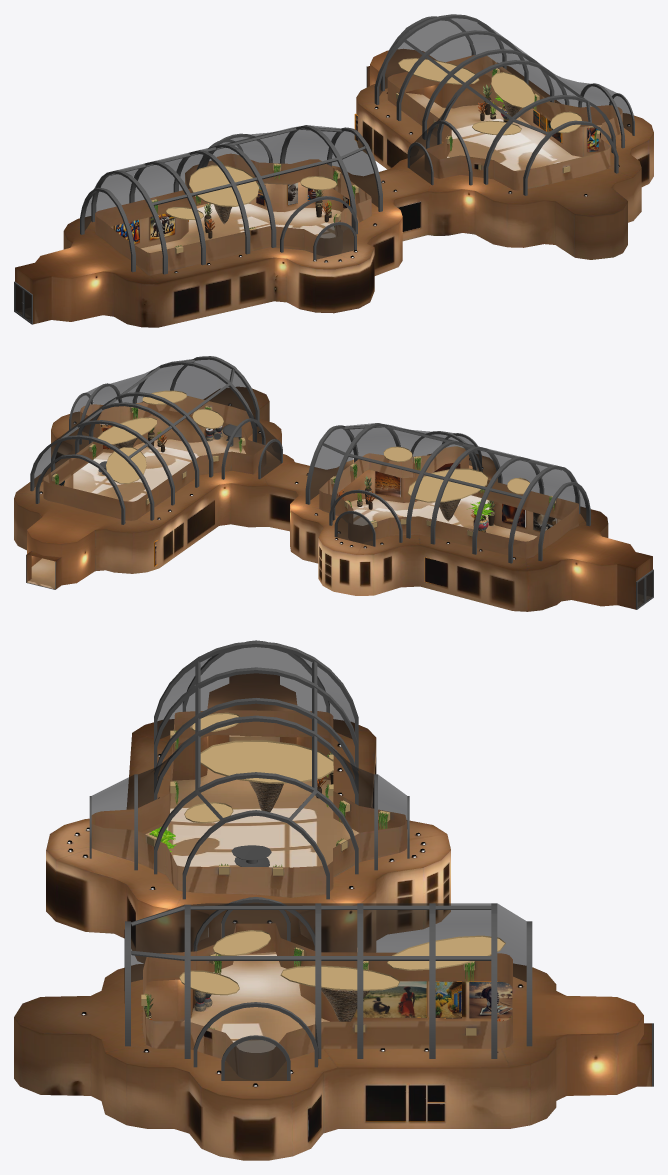
Rendered from nuevagalery.glb.
3 views of the same model, one above another, from view 1: azimuth 30°, elevation 25°; view 2: azimuth 150°, elevation 25°; view 3: azimuth 270°, elevation 25° (orthographic). The views are drawn at different scales.
Parts seen in each view (by area): view 1: Object_574, Object_574.010; view 2: Object_574, Object_574.030; view 3: Object_574, Object_574.001, Object_574.035, Object_574.036.
Boxes of the visible parts, x1,y1,x2,y2 form: Object_574: (14, 14, 653, 327); Object_574.010: (150, 213, 174, 240); Object_574: (14, 356, 653, 611); Object_574.030: (375, 471, 400, 497); Object_574: (14, 640, 653, 1160); Object_574.001: (353, 981, 427, 1017); Object_574.035: (469, 982, 512, 1018); Object_574.036: (435, 981, 461, 1018).
Bounding box in the file's own units: 50.59 × 9.09 × 31.88.
18 materials, 7 textured.
